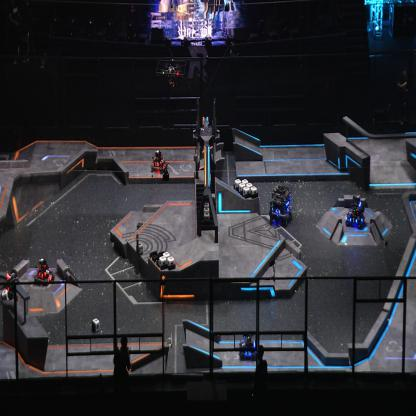car: (268, 184, 293, 229), (345, 193, 366, 230), (33, 257, 55, 287), (237, 332, 257, 361), (150, 149, 169, 174)
